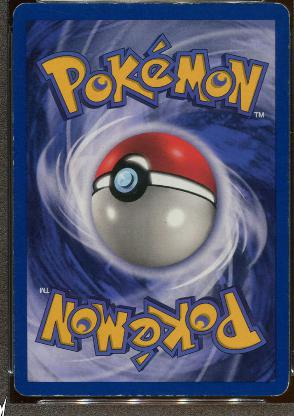Card: (11, 2, 291, 398)
Corner Wear: (267, 371, 290, 399), (272, 0, 291, 26)
Edge Wear: (26, 393, 212, 397), (37, 2, 263, 4), (11, 90, 15, 174), (286, 39, 289, 107)
